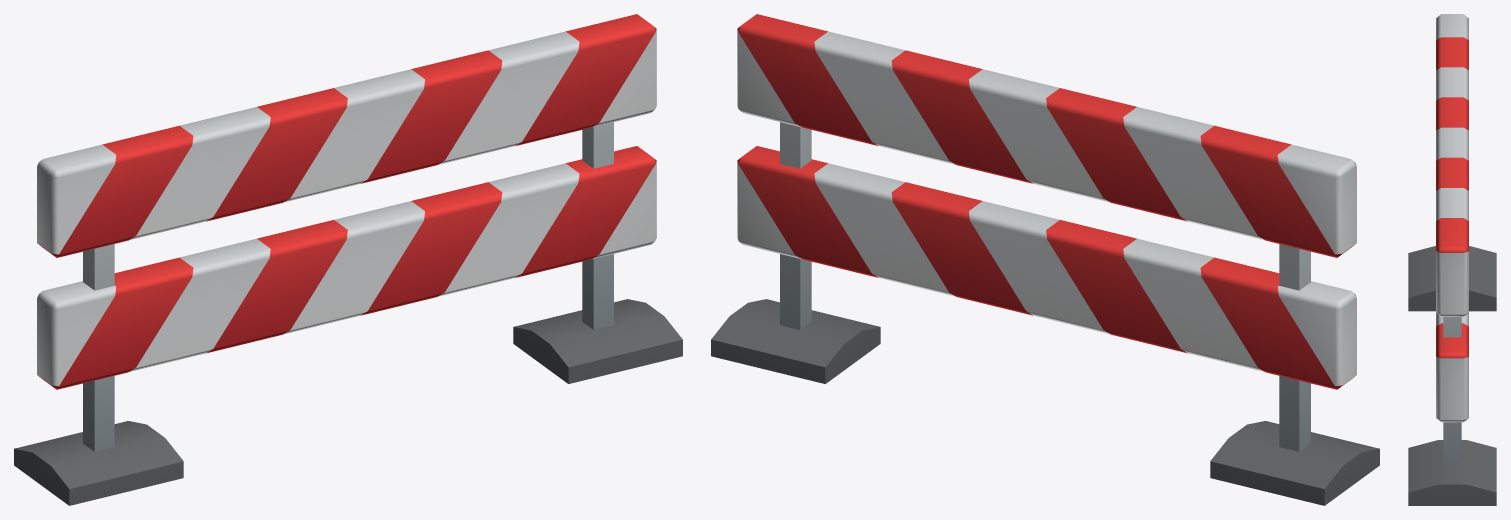
Rendered from Barrier_04.fbx.
3 renders of one model, left to right at view 1: azimuth 30°, elevation 25°; view 2: azimuth 150°, elevation 25°; view 3: azimuth 270°, elevation 25°, orthographic. The views are drawn at different scales.
Parts seen in each view (by area): view 1: Barrier_04; view 2: Barrier_04; view 3: Barrier_04.
Part boxes in pixels (x1,y1,x2,y2): Barrier_04: (14,14,682,505); Barrier_04: (711,14,1379,505); Barrier_04: (1408,14,1496,505).
Bounding box in the file's own units: 246 × 38.38 × 122.
